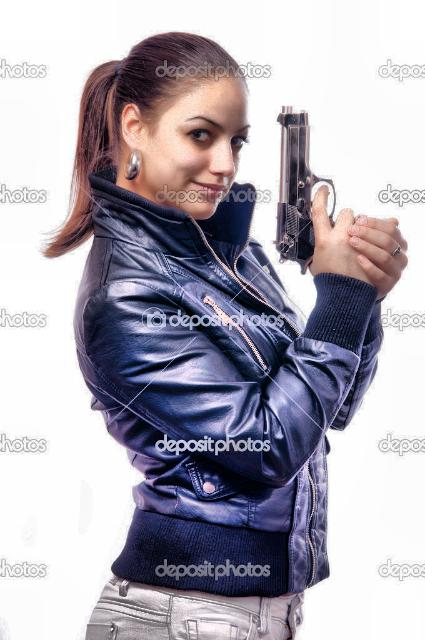pistol: (274, 105, 394, 268)
